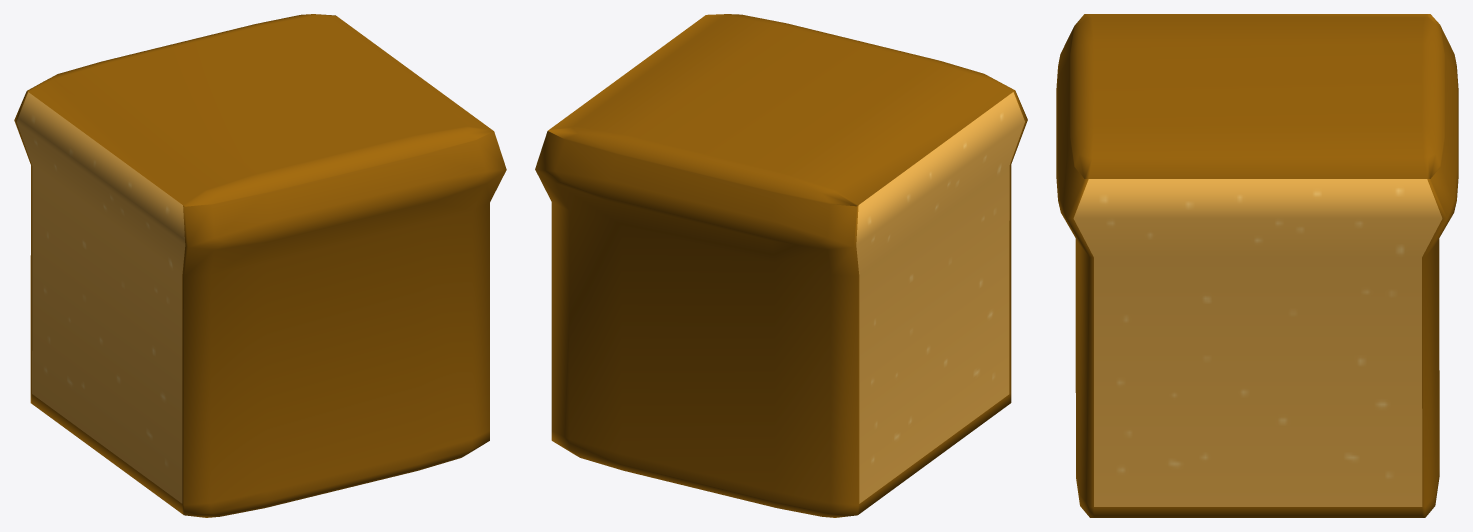
The model's file is Bread(1,1,1)-Dimentions.fbx.
The picture shows the model from 3 angles, left to right: view 1: azimuth 30°, elevation 25°; view 2: azimuth 150°, elevation 25°; view 3: azimuth 270°, elevation 25°; orthographic projection. The views are drawn at different scales.
Visible parts, largest first — view 1: Bread; view 2: Bread; view 3: Bread.
Part boxes in pixels (x1,y1,x2,y2): Bread: (14, 14, 506, 517); Bread: (535, 14, 1027, 517); Bread: (1056, 14, 1458, 517).
Bounding box in the file's own units: 1 × 1 × 1.
